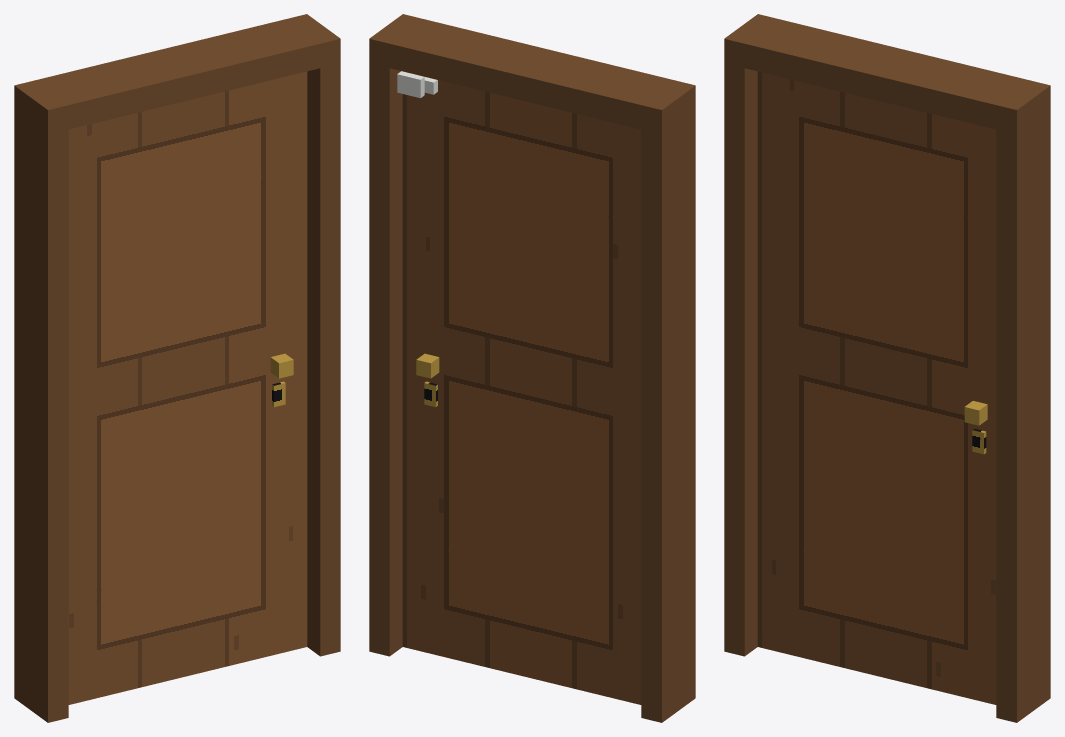
Rendered from t_door_locked_alarm.glb.
3 renders of one model, left to right at view 1: azimuth 30°, elevation 25°; view 2: azimuth 150°, elevation 25°; view 3: azimuth 330°, elevation 25°, orthographic.
Visible parts, largest first — view 1: block_panel, block_jamb-1, block_jamb1, block_head; view 2: block_panel, block_jamb-1, block_jamb1, block_head, block_contact-frame; view 3: block_panel, block_jamb1, block_jamb-1, block_head.
Part boxes in pixels (<box>): block_panel: <box>68,71,307,704</box>; block_jamb-1: <box>14,80,68,722</box>; block_jamb1: <box>287,14,340,656</box>; block_head: <box>35,19,320,129</box>; block_panel: <box>402,80,641,704</box>; block_jamb-1: <box>641,80,695,722</box>; block_jamb1: <box>369,14,422,656</box>; block_head: <box>389,19,674,129</box>; block_contact-frame: <box>397,71,424,98</box>; block_panel: <box>757,71,996,704</box>; block_jamb1: <box>996,80,1050,722</box>; block_jamb-1: <box>724,14,777,656</box>; block_head: <box>744,19,1029,129</box>.
Bounding box in the file's own units: 1 × 2 × 0.225.
Materials: 2 (2 with a texture image).
